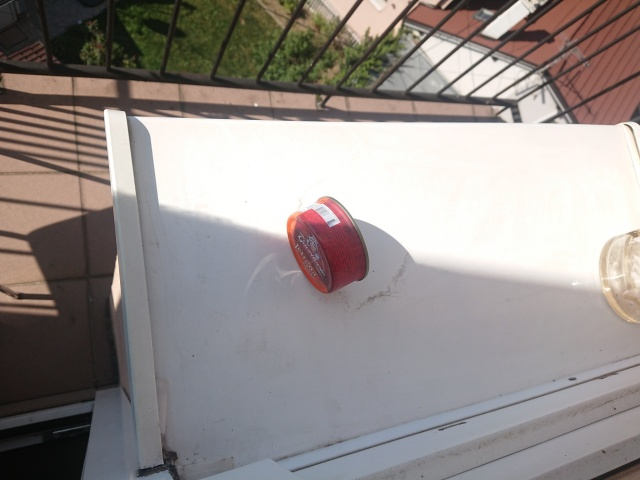Gavrilovic Pork Liver Pate 100g: (284, 193, 372, 296)
